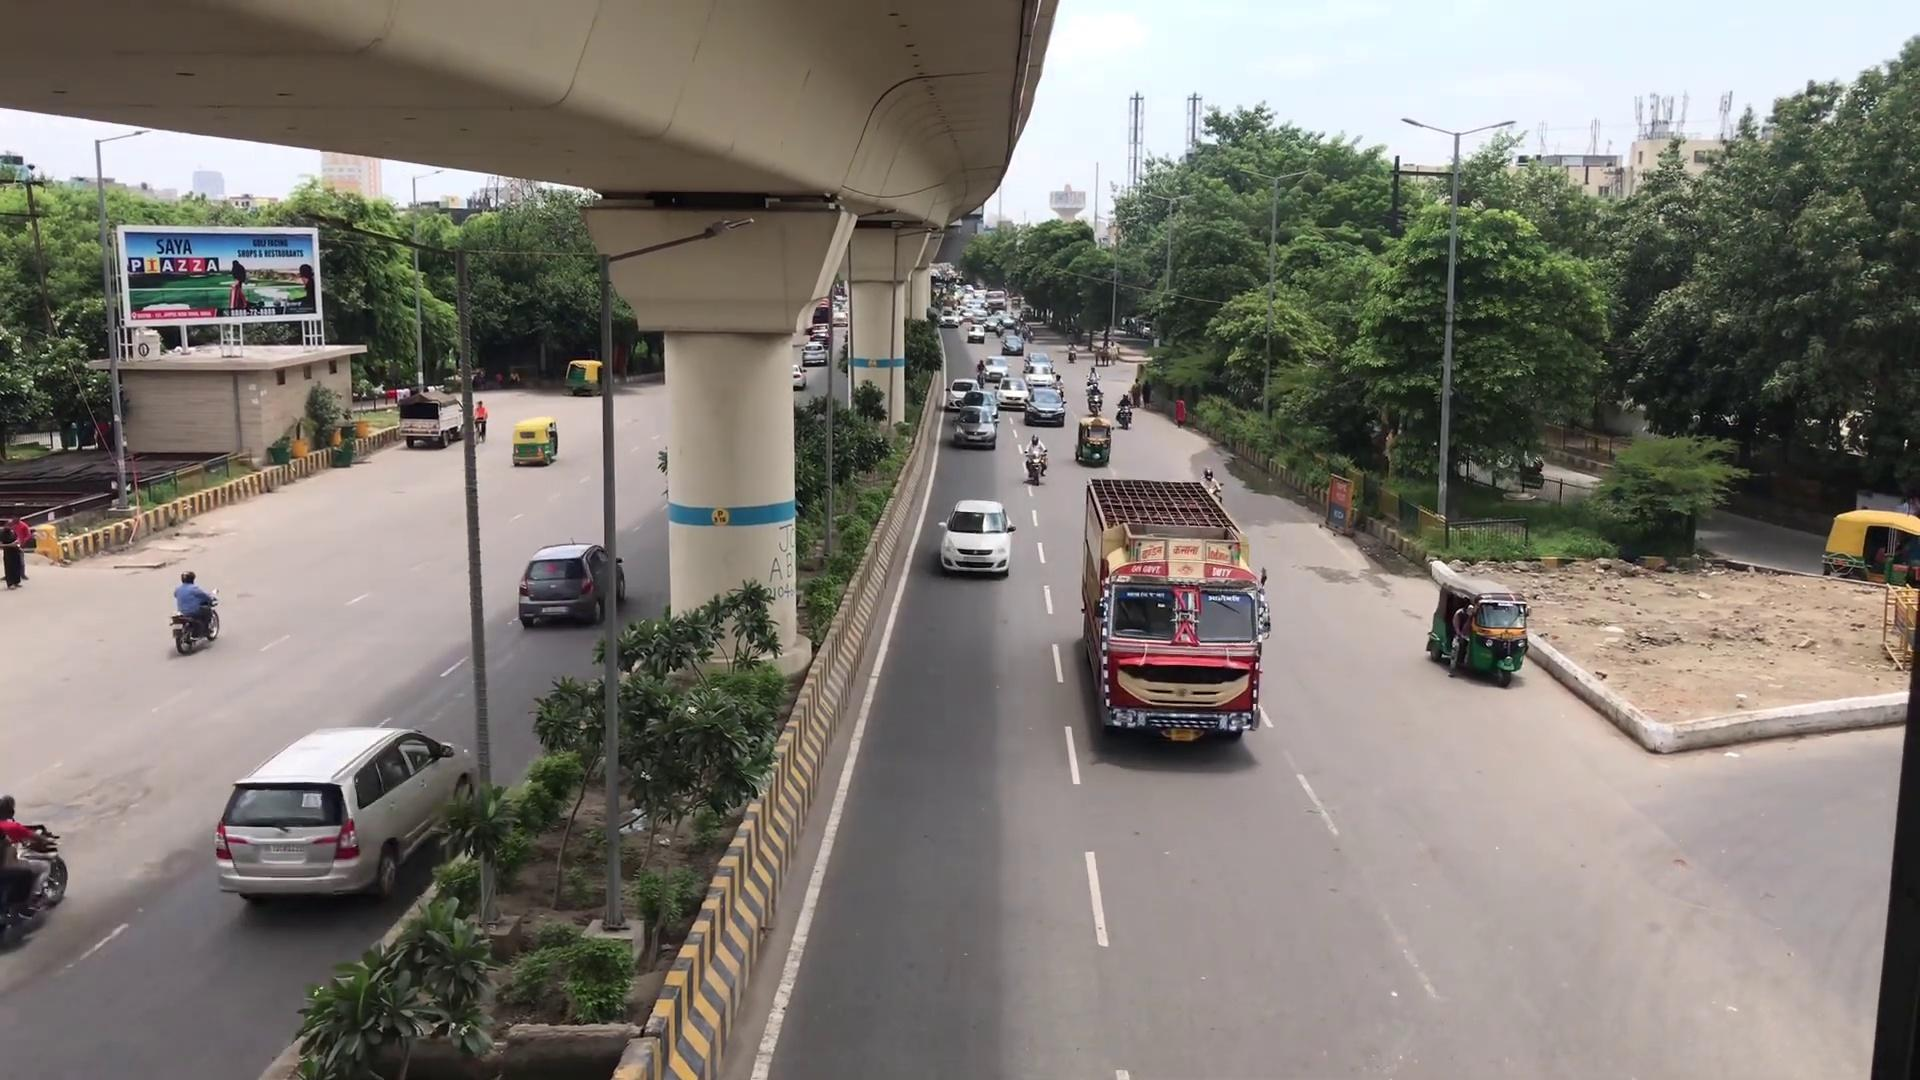Auto: (504, 411, 564, 471)
Bike: (167, 558, 225, 658), (1022, 433, 1054, 489)
Car: (215, 724, 476, 906), (514, 535, 633, 625), (938, 492, 1014, 576)
Truck: (1080, 469, 1271, 753)
